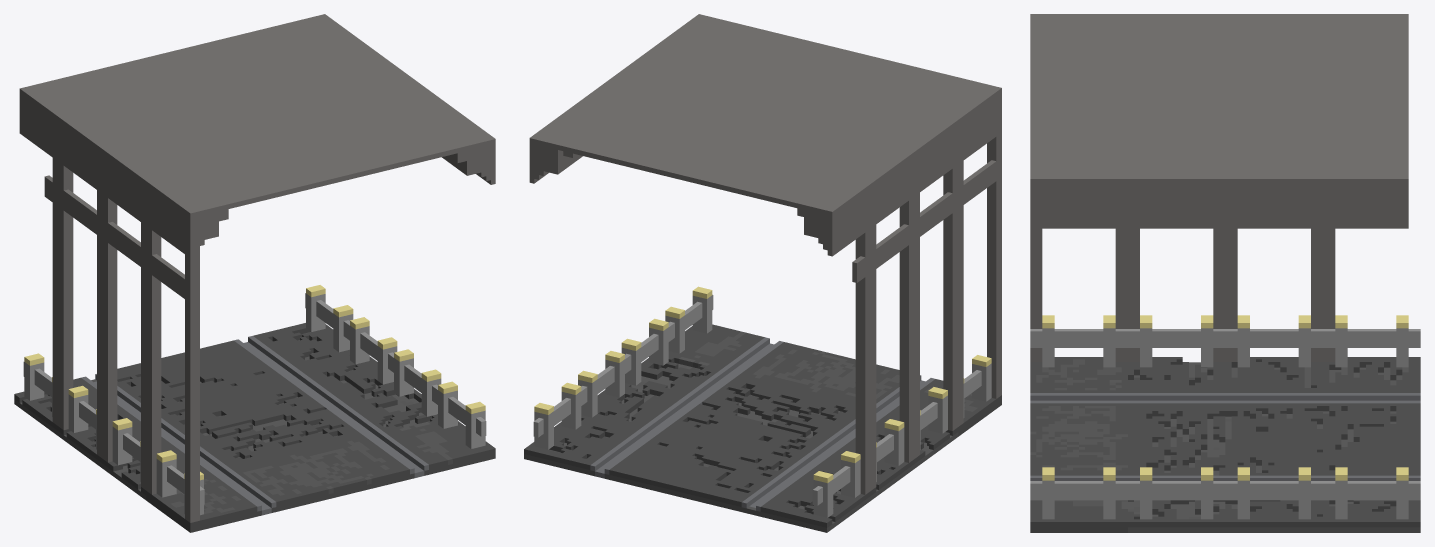
The model's file is Tutorialmap_V2_unfinished-12.obj.
3 renders of one model, left to right at view 1: azimuth 30°, elevation 25°; view 2: azimuth 150°, elevation 25°; view 3: azimuth 270°, elevation 25°, orthographic. The views are drawn at different scales.
Bounding box in the file's own units: 6.4 × 6.4 × 6.4.
1 material, 1 textured.
